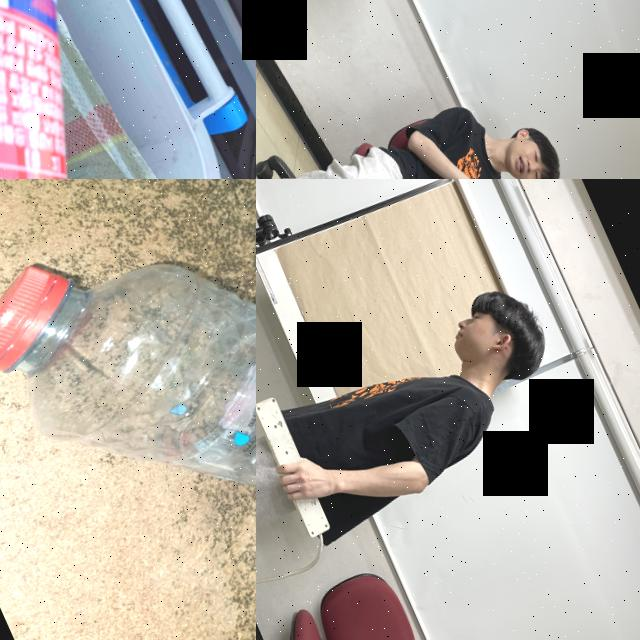bottle: (0, 179, 256, 640)
can: (0, 0, 243, 179)
